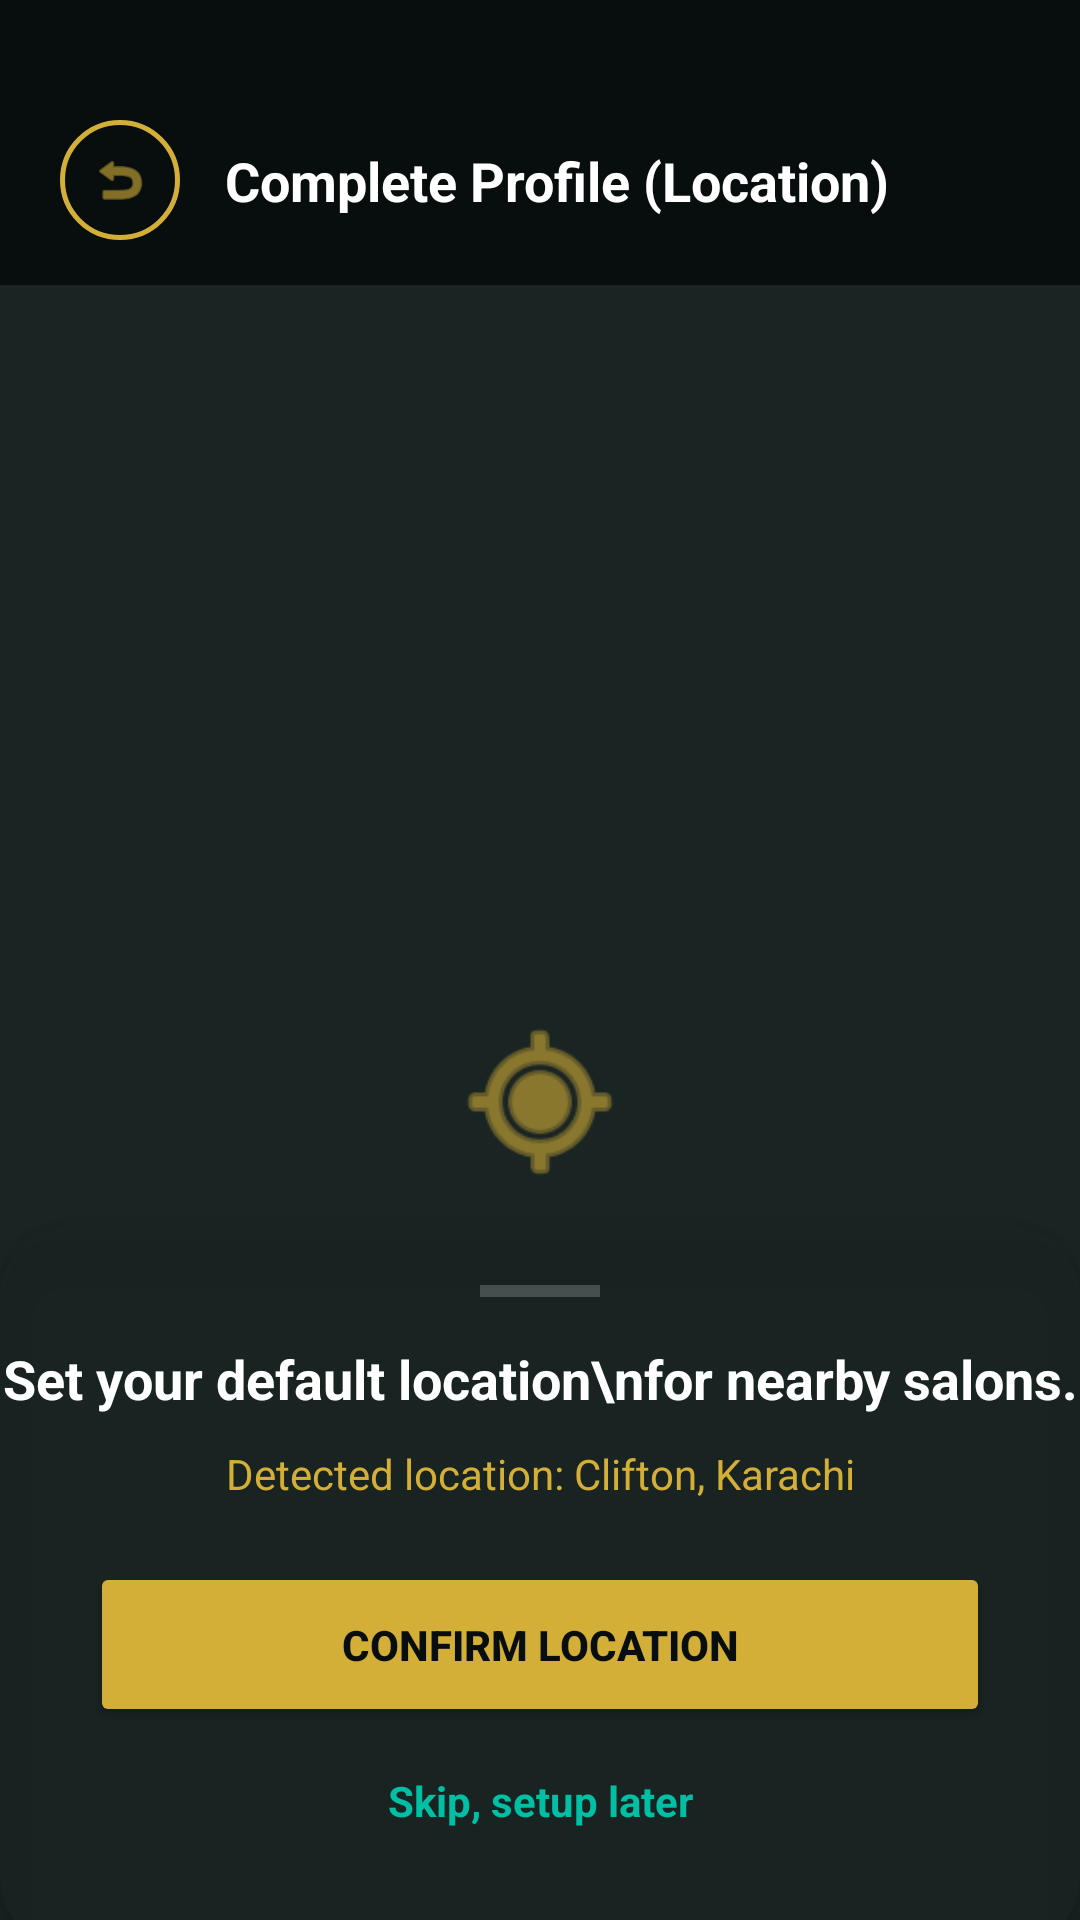

Icons on this 1080*1920 Android screen, each with its box as (x1, y1, x2, y2):
mylocation: (468, 1030, 612, 1174)
revert: (60, 120, 180, 240)
